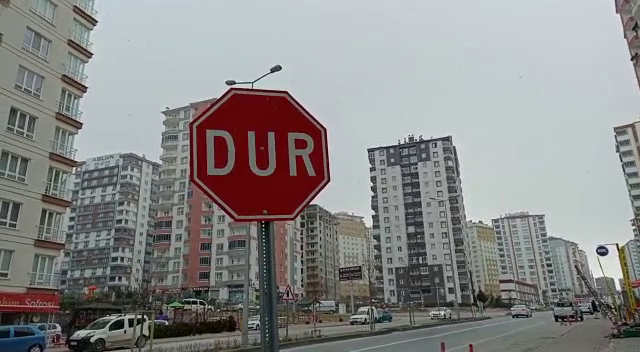stop: (185, 85, 333, 225)
